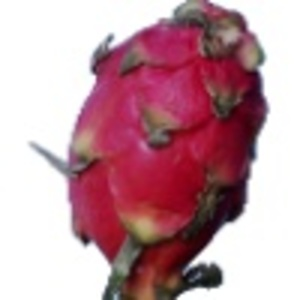pitaia: (33, 1, 271, 300)
